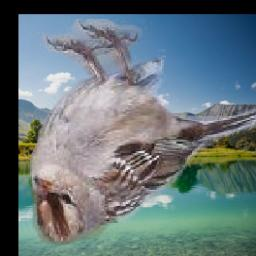Sparrow: (21, 20, 256, 246)
